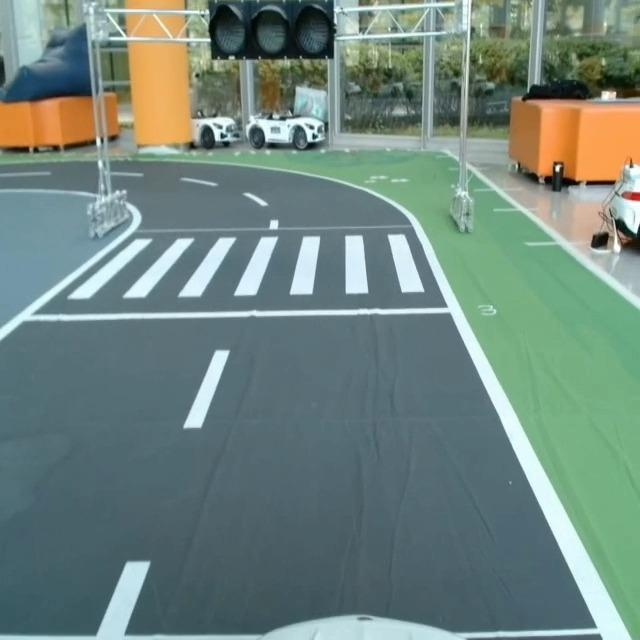traffic-light: (206, 0, 342, 63)
